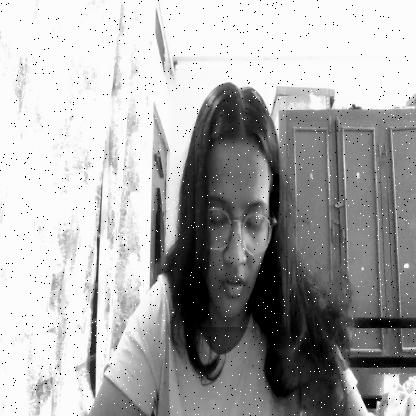Distracted: (195, 83, 286, 327)
